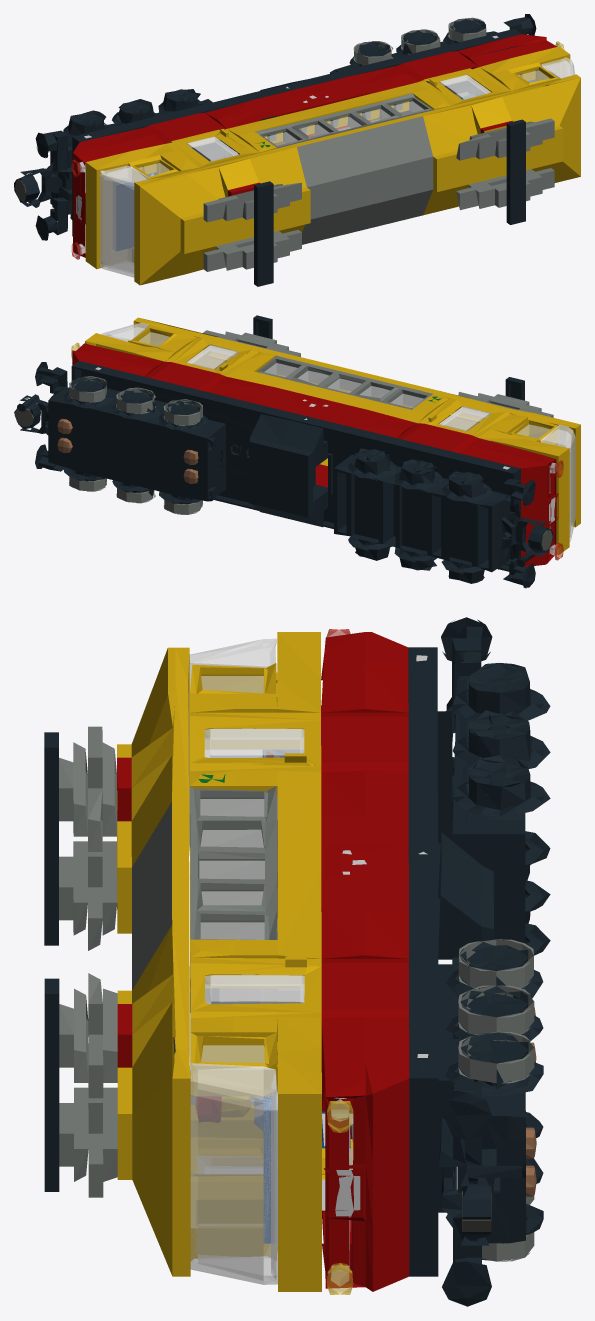
File: electric-locomotive.glb
3 renders of one model, top to bottom at view 1: azimuth 30°, elevation 25°; view 2: azimuth 150°, elevation 25°; view 3: azimuth 270°, elevation 25°, orthographic. The views are drawn at different scales.
Bounding box in the file's own units: 268 × 51.8 × 111.
